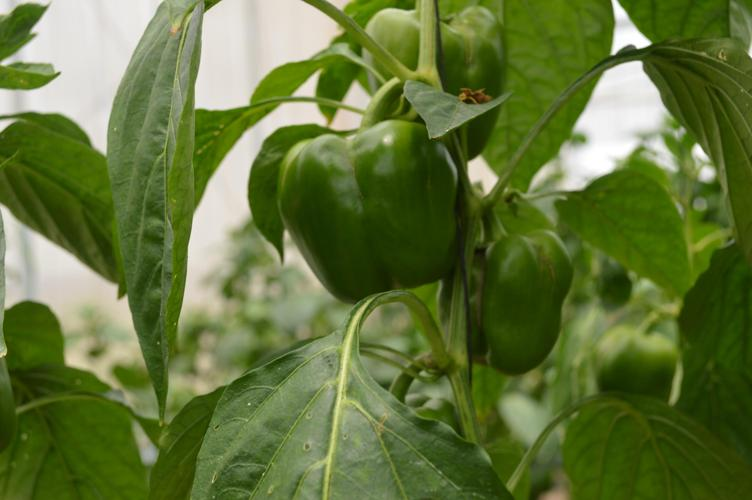BellPepper: (286, 120, 461, 301), (360, 7, 506, 159), (441, 232, 574, 370)
